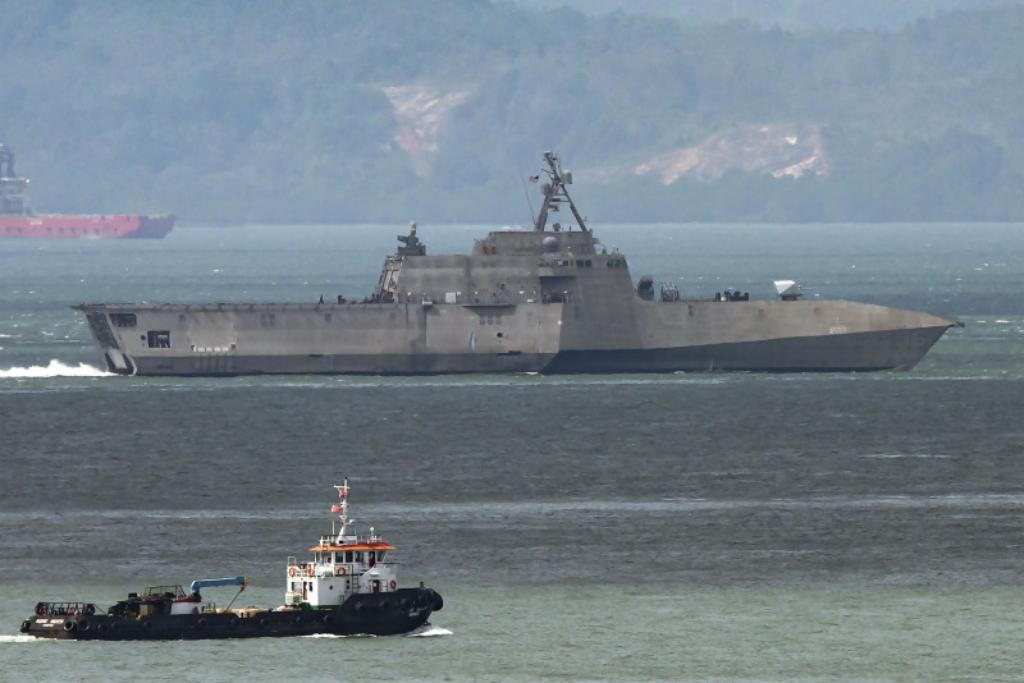Warship: (68, 146, 964, 378)
